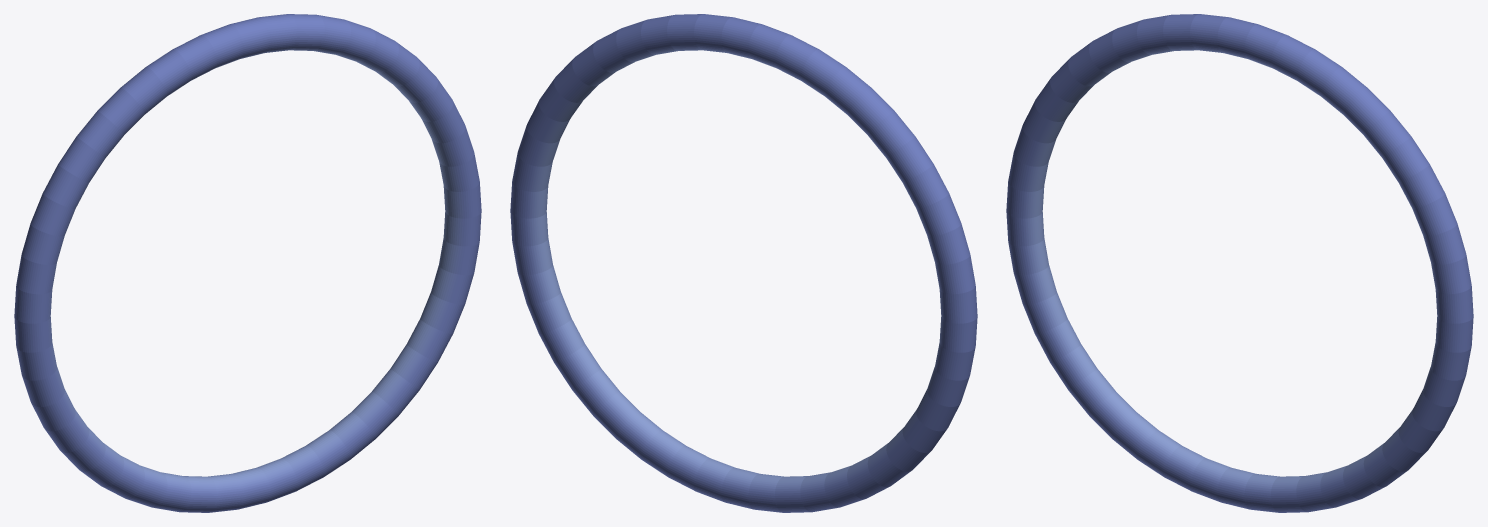
3 renders of one model, left to right at view 1: azimuth 30°, elevation 25°; view 2: azimuth 150°, elevation 25°; view 3: azimuth 330°, elevation 25°, orthographic.
Visible parts, largest first — view 1: world; view 2: world; view 3: world.
Part boxes in pixels (x1,y1,x2,y2): world: (14,14,481,512); world: (510,14,977,512); world: (1006,14,1473,512).
Size of the model in its own units: 29.33 by 29.28 by 2.
